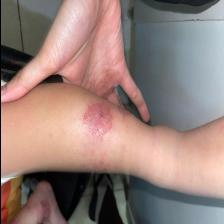DA: (80, 98, 127, 172)
